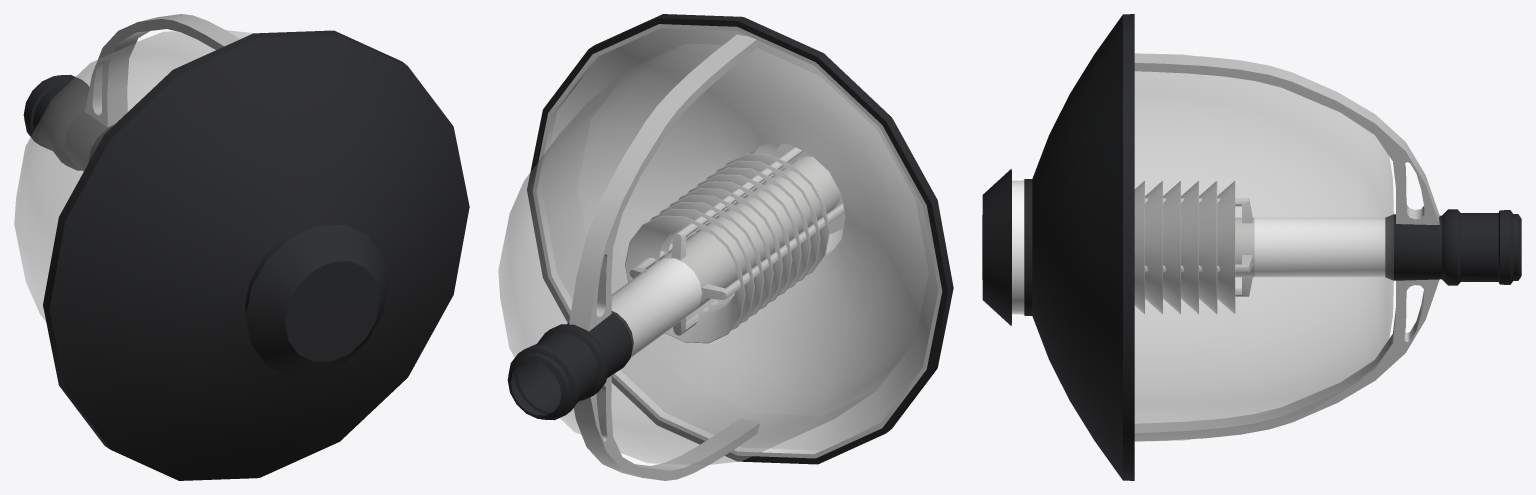
Rendered from Gamma.obj.
3 renders of one model, left to right at view 1: azimuth 30°, elevation 25°; view 2: azimuth 150°, elevation 25°; view 3: azimuth 270°, elevation 25°, orthographic. The views are drawn at different scales.
Parts seen in each view (by area): view 1: Lampe, Glas, Seitenstreben; view 2: Lampe, Glas, Seitenstreben, Lamellen, Reflektorstreben; view 3: Glas, Lampe, Seitenstreben, Lamellen, Reflektorstreben.
Boxes of the visible parts, x1,y1,x2,y2 form: Lampe: (23, 30, 469, 480); Glas: (14, 30, 253, 321); Seitenstreben: (85, 14, 239, 126); Lampe: (507, 14, 953, 464); Glas: (498, 43, 928, 465); Seitenstreben: (569, 34, 760, 480); Lamellen: (625, 153, 829, 343); Reflektorstreben: (629, 147, 844, 335); Glas: (1134, 53, 1393, 441); Lampe: (982, 14, 1521, 480); Seitenstreben: (1134, 53, 1439, 441); Lamellen: (1134, 181, 1235, 313); Reflektorstreben: (1145, 198, 1253, 296).
Size of the model in its own units: 0.6308 by 0.6308 by 0.7282.
